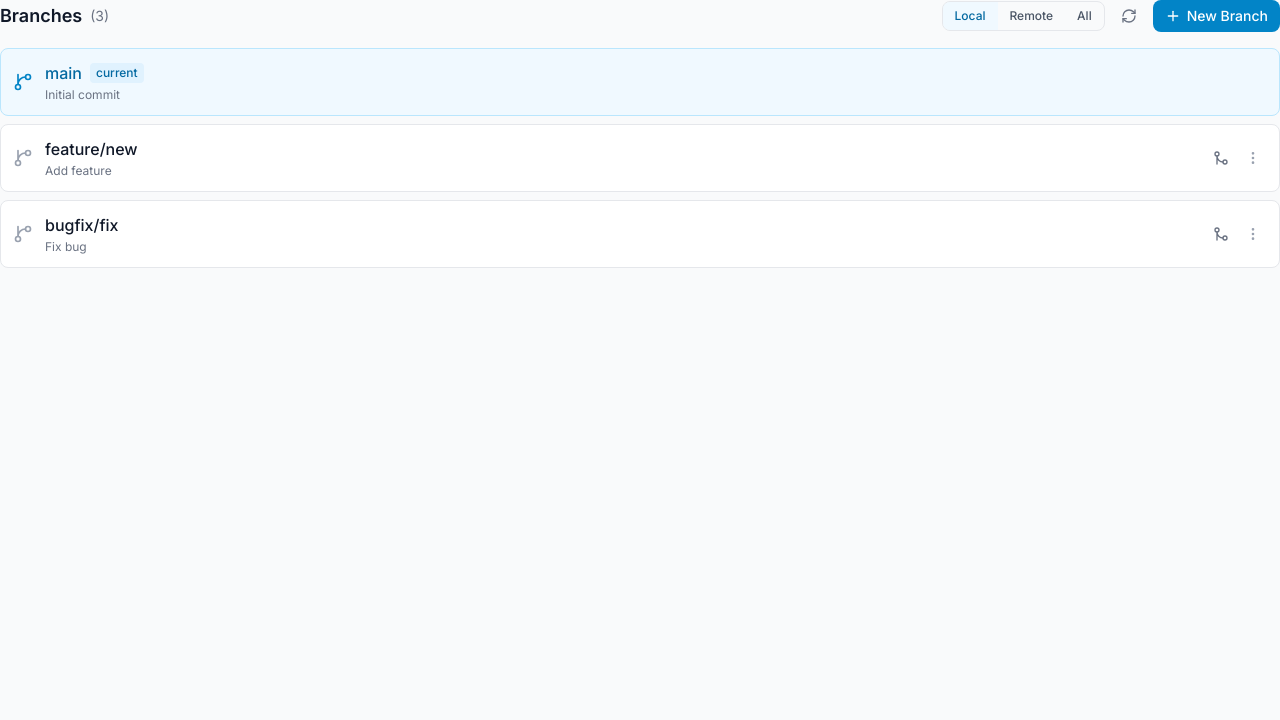
Test case: BranchList › cancels create modal when Cancel is clicked
Click the button "New Branch": (1216, 16) [1153, 0, 1279, 32]
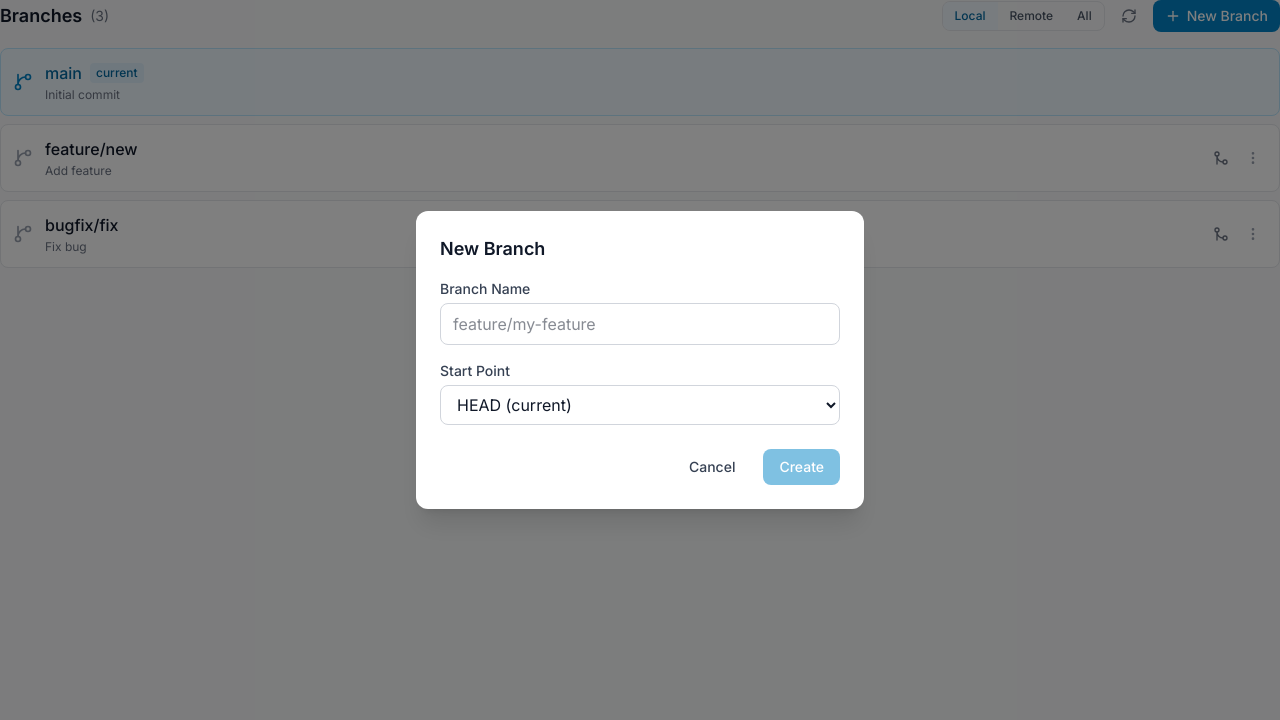
Expected: the text "Branch Name" is shown, [440, 280, 530, 297]
Click the button "Cancel": (712, 467) [673, 449, 751, 485]
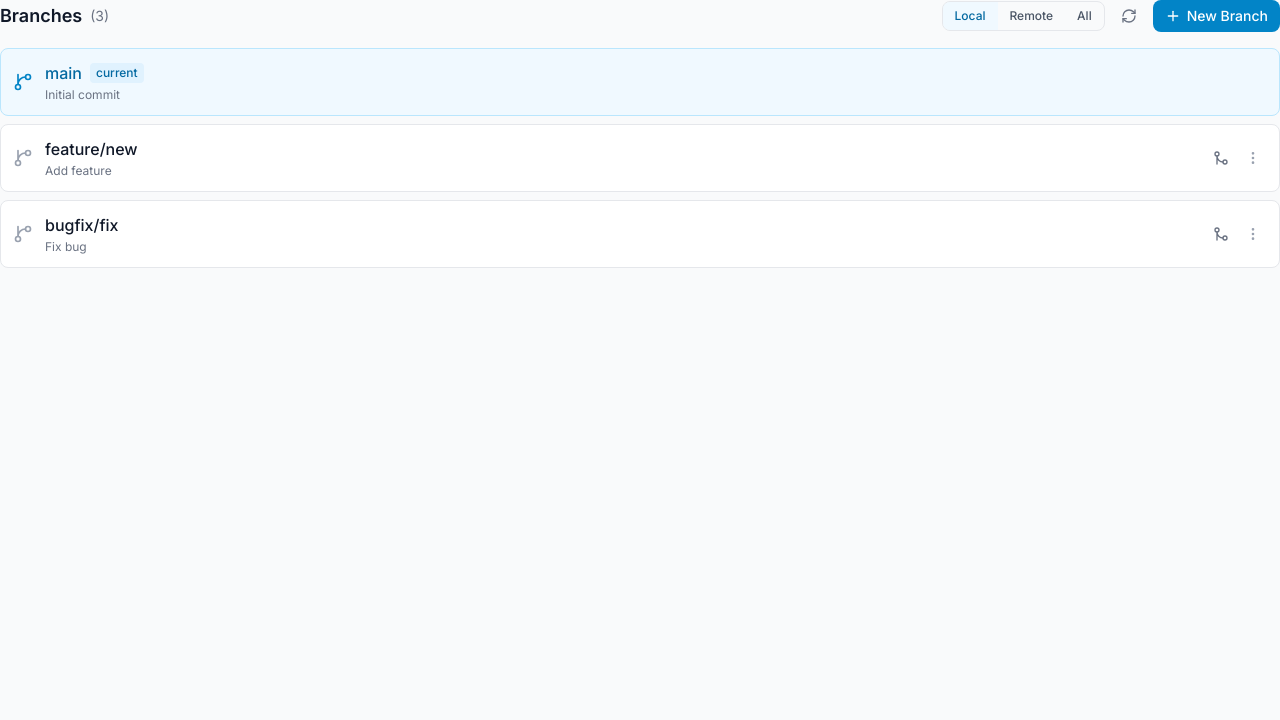
Expected: the text "Branch Name" is gone
